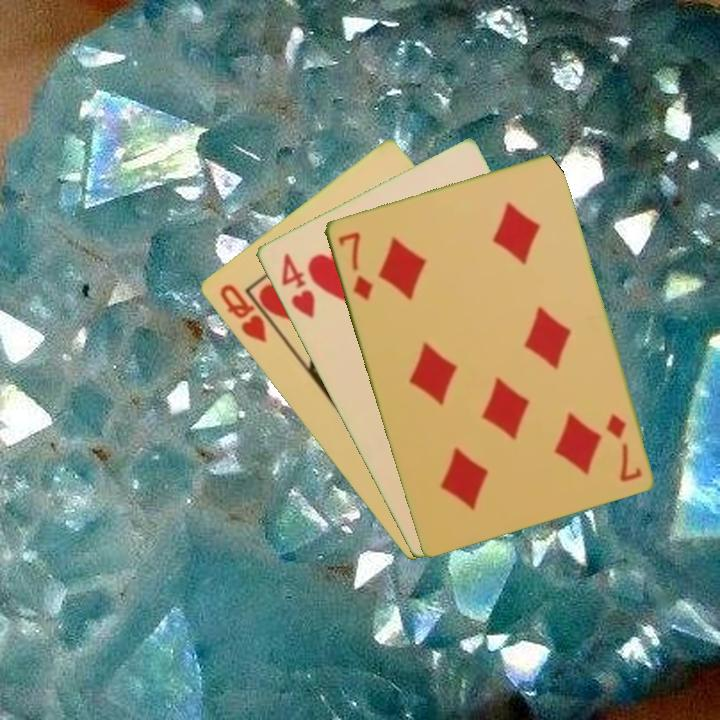4h: (277, 249, 318, 321)
7d: (602, 409, 645, 485), (334, 228, 375, 304)
Qh: (215, 280, 282, 346)
